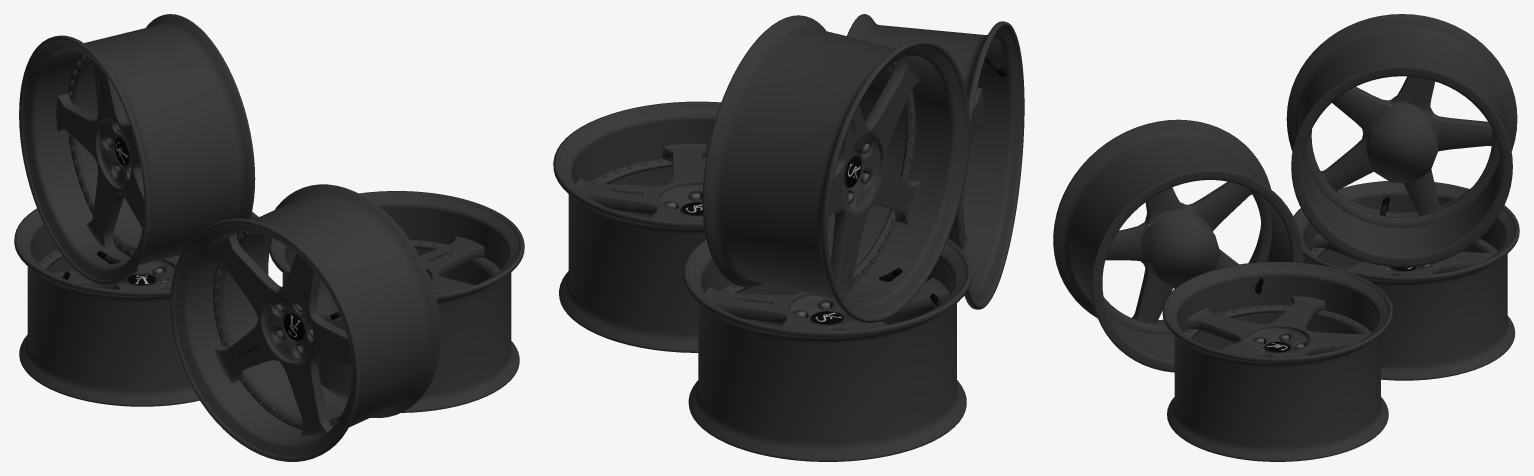
Rendered from veilside_andrew_racing_v.glb.
3 views of the same model, side by side, from view 1: azimuth 30°, elevation 25°; view 2: azimuth 150°, elevation 25°; view 3: azimuth 270°, elevation 25° (orthographic). The views are drawn at different scales.
Parts seen in each view (by area): view 1: vs.002, vs, vs.001, vs.003; view 2: vs, vs.001, vs.003, vs.002; view 3: vs, vs.003, vs.002, vs.001.
Part boxes in pixels (x1,y1,x2,y2): vs.002: (170, 184, 440, 461); vs: (19, 14, 255, 285); vs.001: (14, 208, 258, 406); vs.003: (269, 191, 524, 412); vs: (702, 15, 969, 322); vs.001: (683, 238, 972, 461); vs.003: (553, 101, 721, 352); vs.002: (847, 14, 1024, 309); vs: (1286, 14, 1517, 267); vs.003: (1162, 261, 1393, 461); vs.002: (1053, 119, 1303, 372); vs.001: (1293, 181, 1519, 380).
Size of the model in its own units: 0.9409 by 0.7223 by 1.04.
3 materials, 2 textured.
